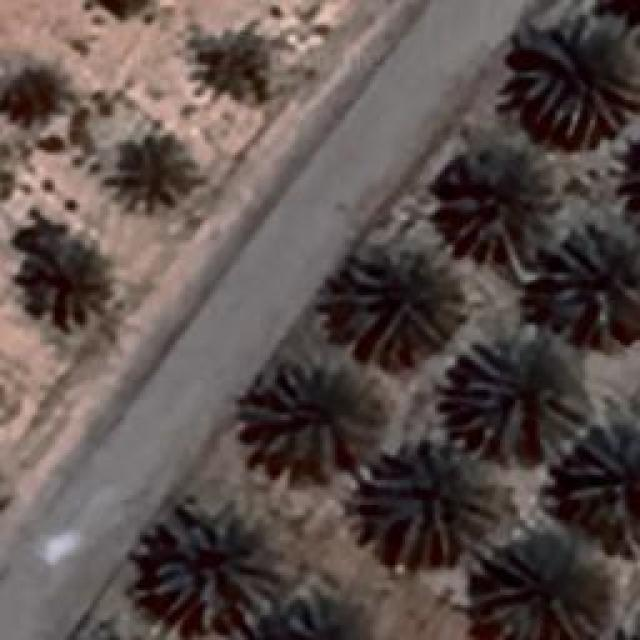PalmTree: (67, 56, 300, 612), (360, 432, 510, 566), (240, 355, 390, 483), (138, 500, 276, 635), (330, 228, 468, 362), (512, 12, 638, 146), (442, 135, 562, 270), (470, 522, 608, 636), (464, 325, 568, 460), (547, 220, 635, 340), (95, 118, 200, 218), (15, 235, 110, 323), (560, 425, 638, 525), (202, 30, 282, 98), (81, 0, 158, 29)
